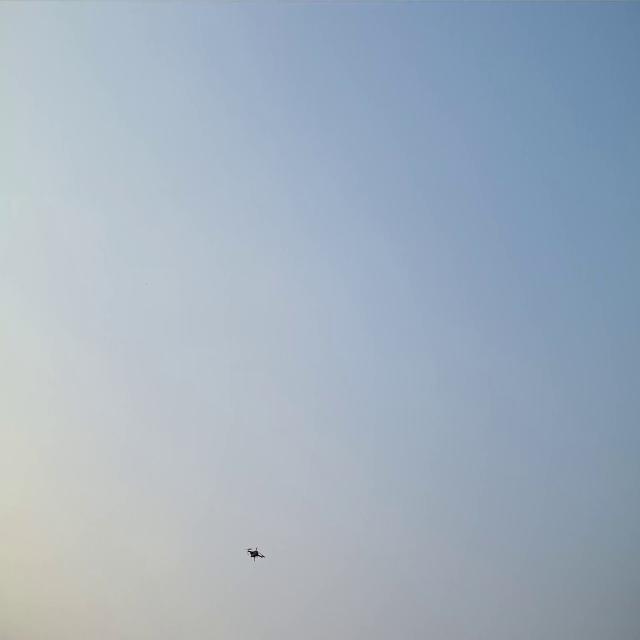UAV: (244, 544, 267, 562)
